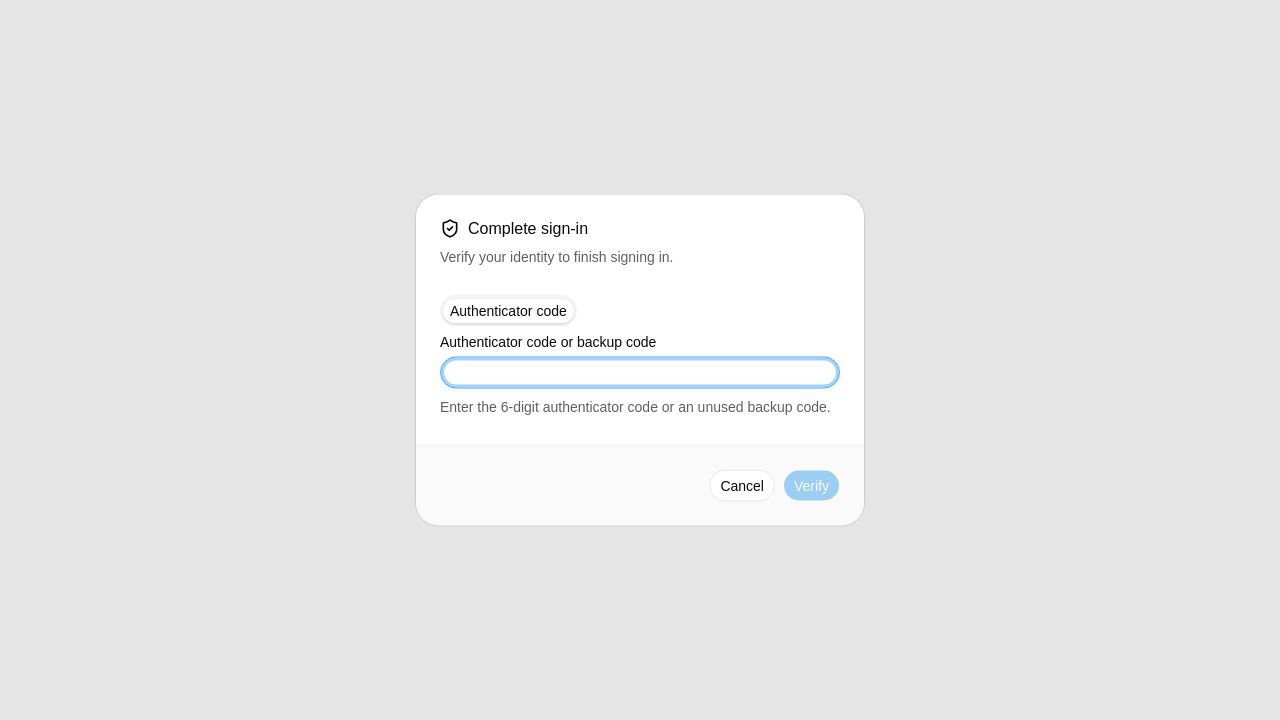
keeps the current verification and entered code when the input updates
Type "123" into the field labelled "Authenticator code or backup code". click: (640, 372)
box: [440,356,840,388]
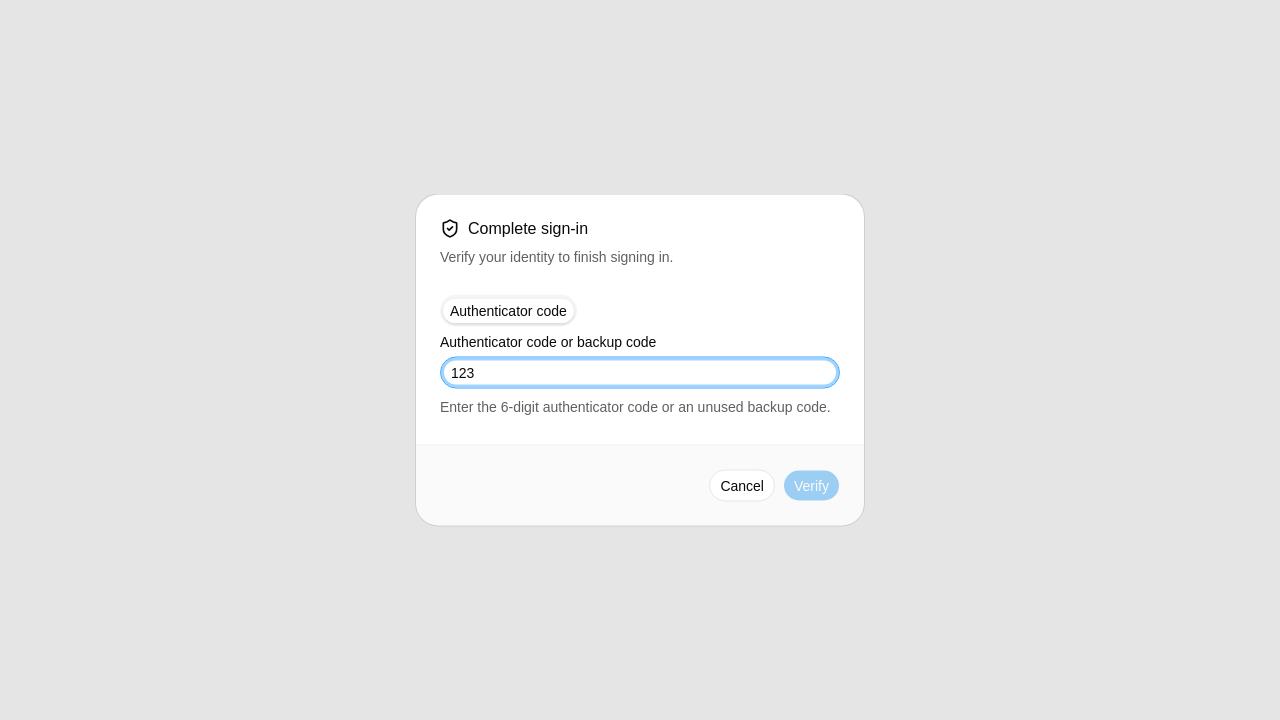
Type "456" into the field labelled "Authenticator code or backup code". click: (640, 372)
box: [440,356,840,388]
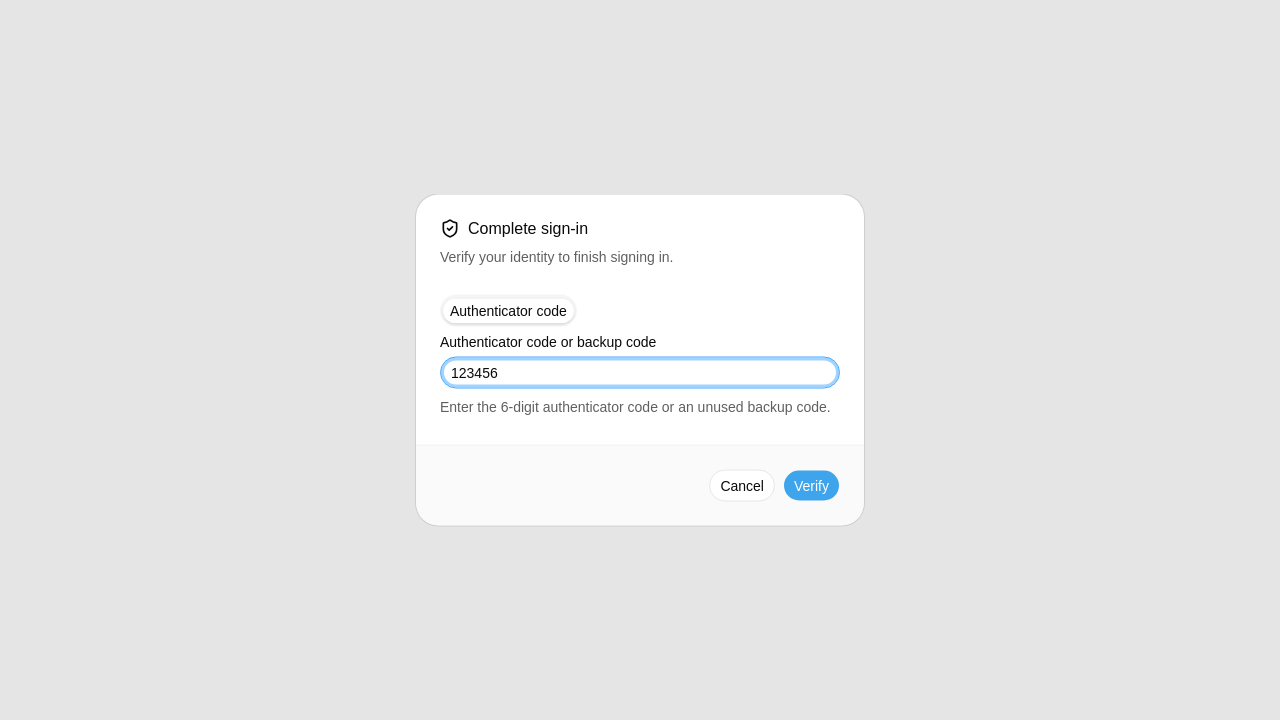
Now the field labelled "Authenticator code or backup code" holds "123456", box [440,356,840,388]
